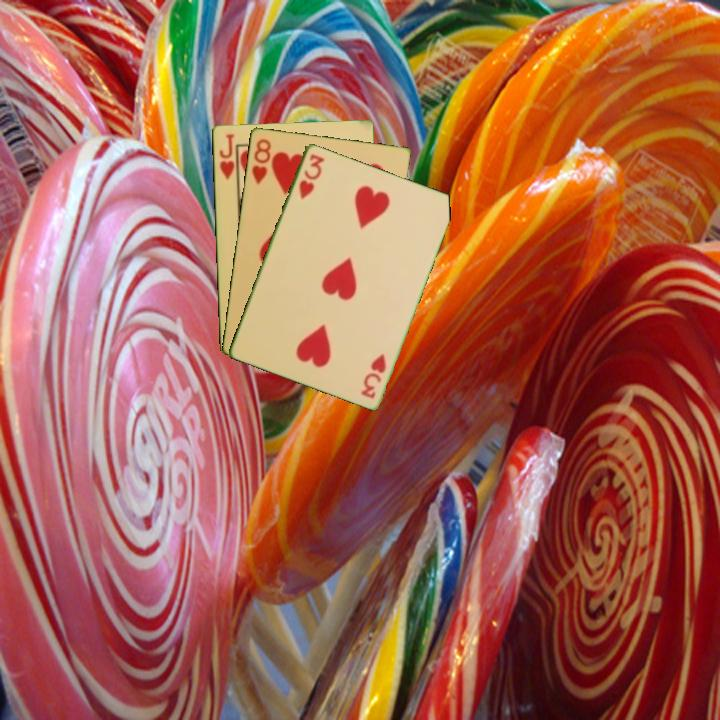3h: (295, 150, 327, 202), (357, 350, 389, 401)
8h: (248, 135, 273, 187)
Jh: (215, 130, 240, 186)
